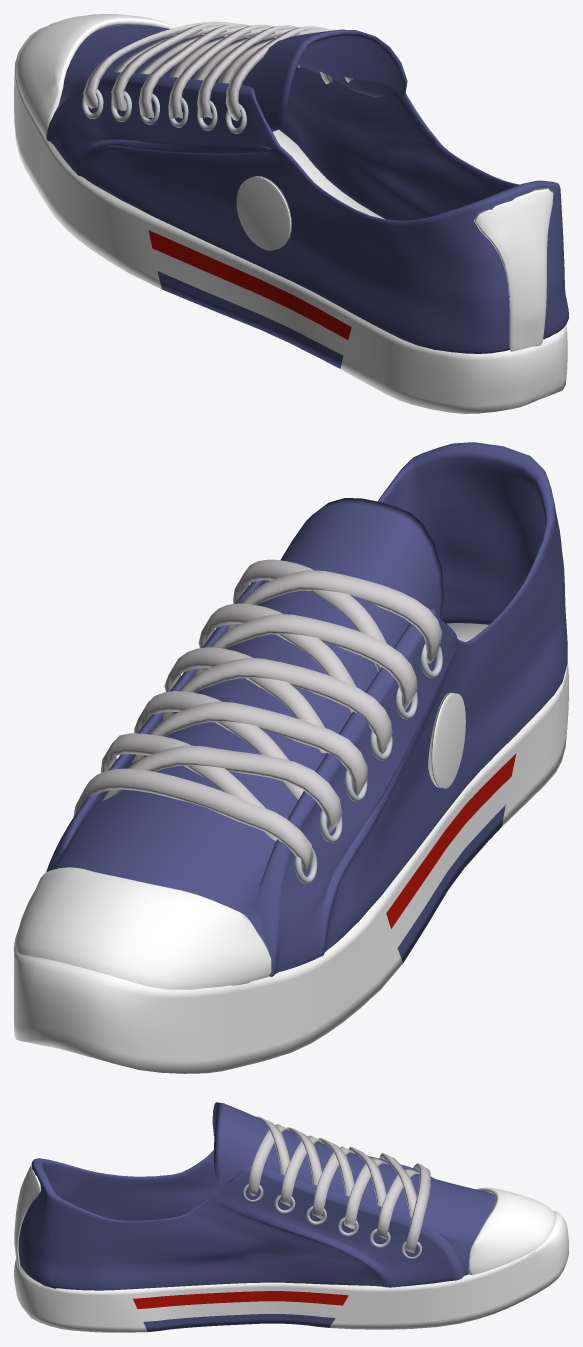
The picture shows the model from 3 angles, top to bottom: view 1: azimuth 30°, elevation 25°; view 2: azimuth 150°, elevation 25°; view 3: azimuth 270°, elevation 25°; orthographic projection. The views are drawn at different scales.
Parts seen in each view (by area): view 1: Body, Sole, Flap, Laces, Back, Front, Circle, Torus; view 2: Body, Sole, Laces, Flap, Front, Circle, Torus; view 3: Body, Sole, Flap, Laces, Front, Back, Torus.001.
Boxes of the visible parts, box(x1,y1,x2,y2) form: Body: box(46, 65, 568, 353); Sole: box(14, 27, 567, 413); Flap: box(48, 25, 407, 135); Laces: box(83, 21, 353, 120); Back: box(474, 187, 553, 351); Front: box(16, 14, 177, 136); Circle: box(236, 176, 291, 250); Torus: box(82, 89, 246, 133); Body: box(46, 442, 567, 976); Sole: box(14, 623, 568, 1073); Laces: box(73, 559, 442, 873); Flap: box(52, 498, 443, 969); Front: box(14, 867, 271, 989); Circle: box(428, 692, 465, 788); Torus: box(294, 643, 442, 883); Body: box(18, 1150, 463, 1290); Sole: box(14, 1211, 568, 1332); Flap: box(212, 1102, 495, 1275); Laces: box(248, 1116, 430, 1253); Front: box(468, 1187, 556, 1274); Back: box(14, 1165, 40, 1268); Torus.001: box(243, 1184, 422, 1258).
Size of the model in its own units: 1.69 by 2.09 by 5.51.
